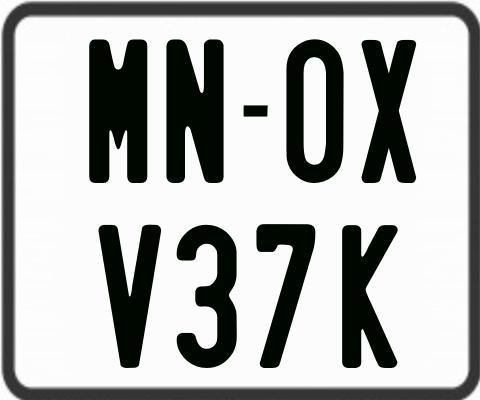0: (284, 37, 345, 181)
3: (177, 223, 240, 366)
7: (254, 222, 316, 367)
K: (340, 223, 398, 370)
M: (86, 39, 148, 183)
N: (165, 36, 225, 186)
V: (98, 222, 162, 368)
X: (360, 37, 418, 184)
